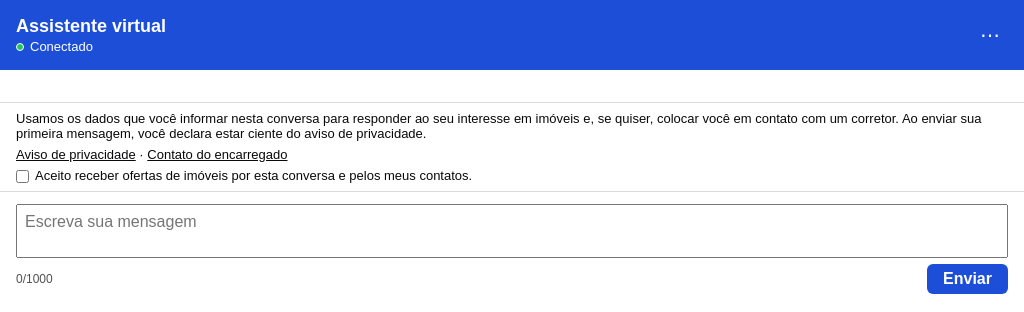
Conversa › fechamento 1002 com mensagem pendente marca "Não enviada"; "Reenviar" abre socket novo, manda ola com a sessao e depois a mensagem
Type "Qual o valor do condomínio?" into the text box labelled "mensagem" at (512, 231), box [16,204,1008,258]
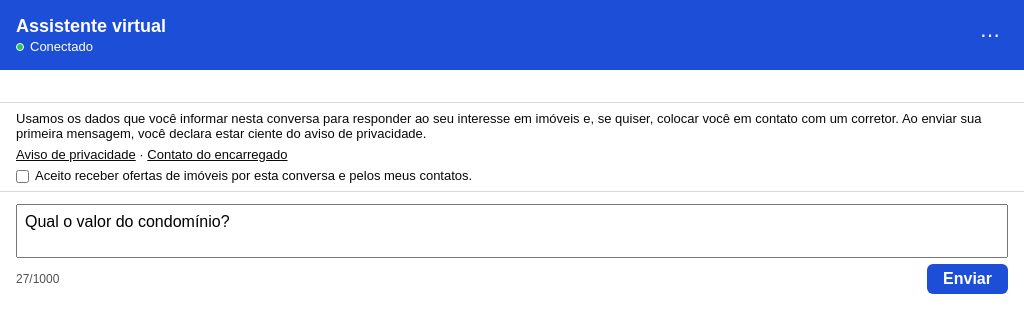
Click the button "Enviar" at (968, 279), box [927,264,1008,294]
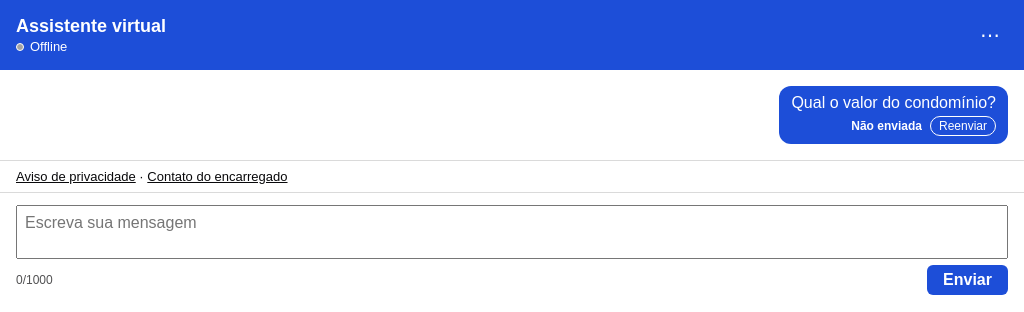
Expected: the text "Não enviada" is shown, [851,119,922,133]
Click the button "Reenviar" at (963, 126), box [930,116,996,136]
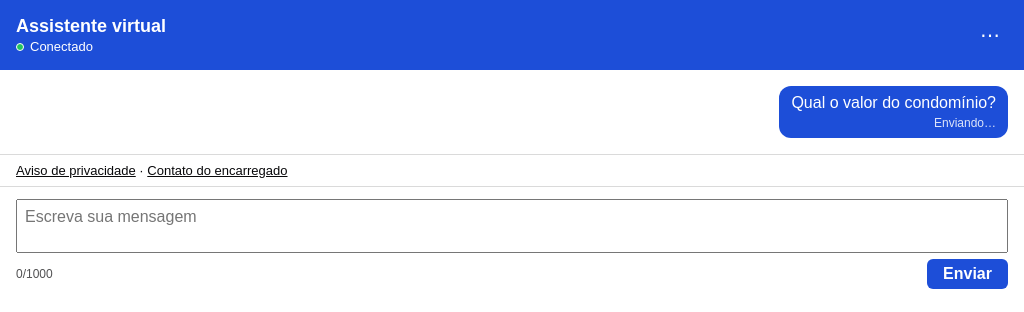
Expected: the text "Enviando…" is shown, [934,116,996,130]
